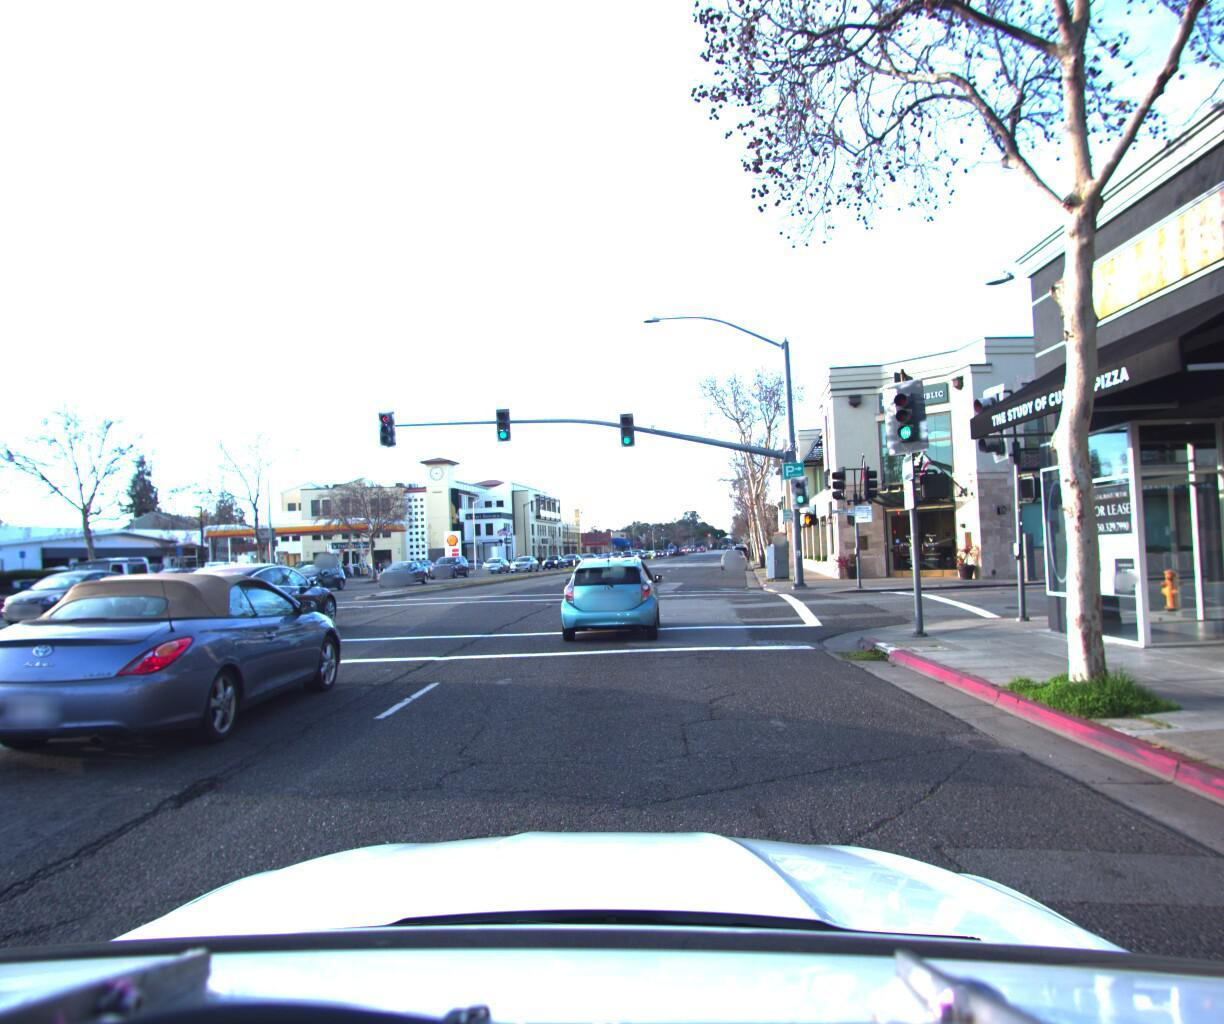car: (152, 552, 345, 647), (559, 547, 663, 644), (27, 552, 159, 615), (179, 555, 252, 591), (273, 556, 349, 591), (373, 555, 433, 587), (426, 549, 474, 576), (281, 556, 325, 578), (717, 543, 745, 567), (477, 551, 510, 571), (508, 549, 541, 567), (538, 549, 565, 566)
